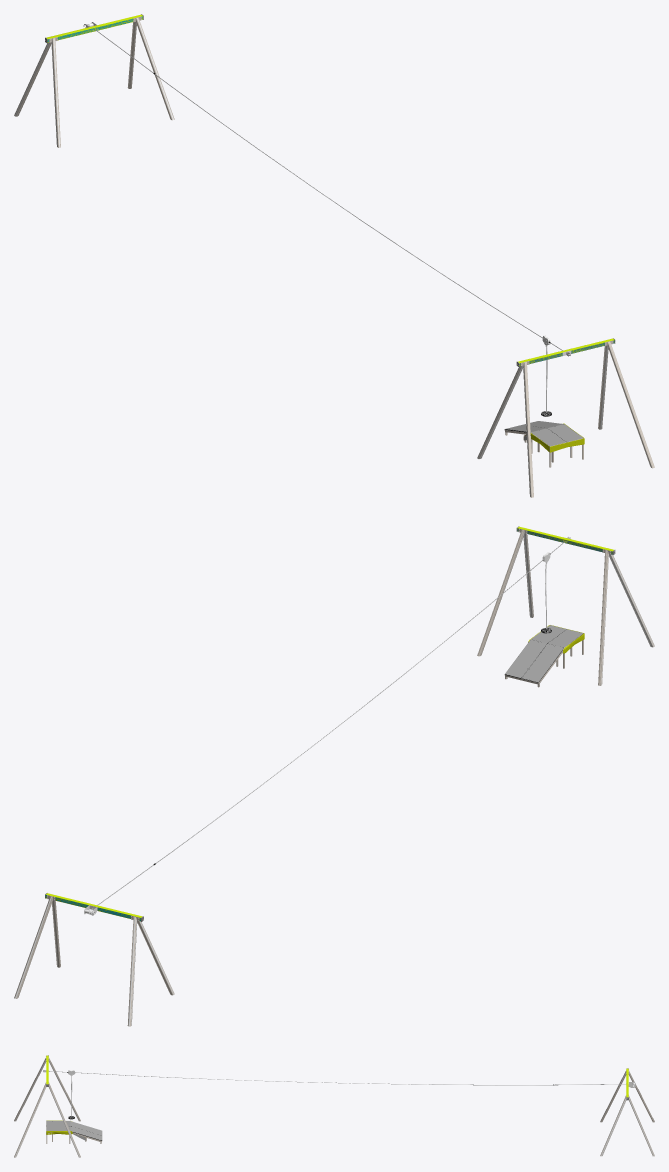
Rendered from linbana-enkel.glb.
3 renders of one model, top to bottom at view 1: azimuth 30°, elevation 25°; view 2: azimuth 150°, elevation 25°; view 3: azimuth 270°, elevation 25°, orthographic. The views are drawn at different scales.
Visible parts, largest first — view 1: FLFJ201B_D_3d_OBJ_20260805; view 2: FLFJ201B_D_3d_OBJ_20260805; view 3: FLFJ201B_D_3d_OBJ_20260805.
Boxes of the visible parts, left/top/right/bottom form: FLFJ201B_D_3d_OBJ_20260805: left=14, top=14, right=654, bottom=497; FLFJ201B_D_3d_OBJ_20260805: left=14, top=526, right=654, bottom=1026; FLFJ201B_D_3d_OBJ_20260805: left=14, top=1055, right=654, bottom=1157.
Size of the model in its own units: 3.65 by 3.17 by 26.63.
7 materials, 7 textured.
